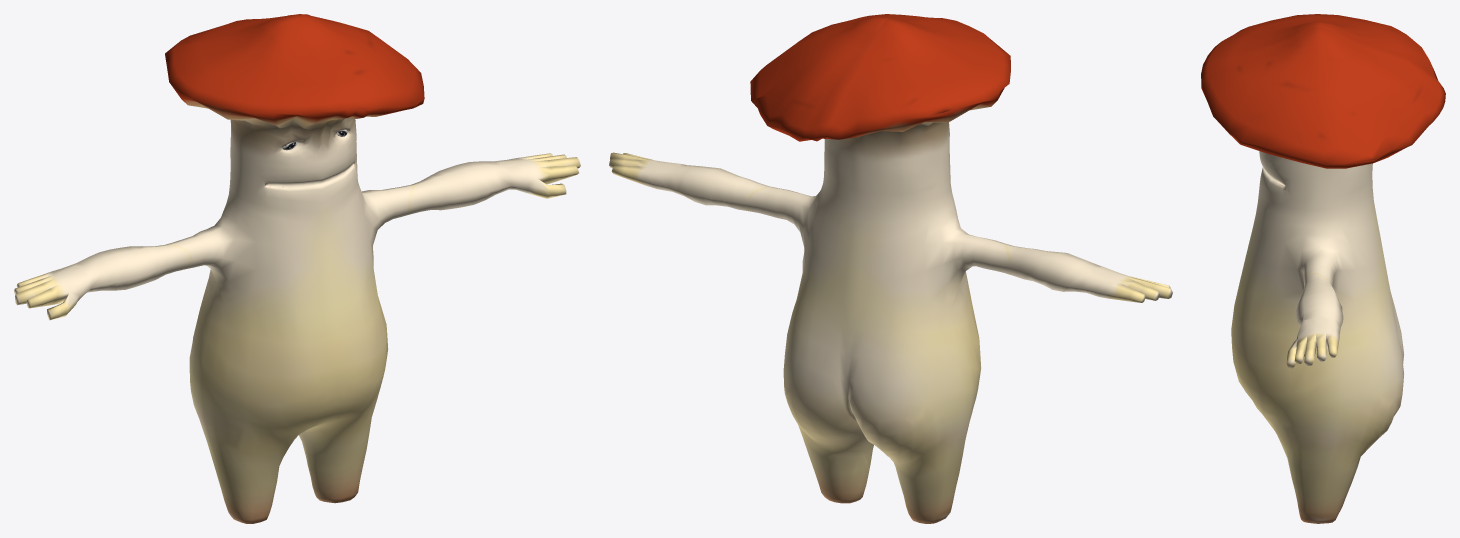
File: shroominator.fbx
3 views of the same model, side by side, from view 1: azimuth 30°, elevation 25°; view 2: azimuth 150°, elevation 25°; view 3: azimuth 270°, elevation 25° (orthographic). The views are drawn at different scales.
Visible parts, largest first — view 1: model_0; view 2: model_0; view 3: model_0.
Part boxes in pixels (bbox=[...]): model_0: bbox=[14, 14, 580, 523]; model_0: bbox=[609, 14, 1172, 523]; model_0: bbox=[1201, 14, 1445, 523].
Bounding box in the file's own units: 10.1 × 8.42 × 3.95.
Materials: 1 (1 with a texture image).
